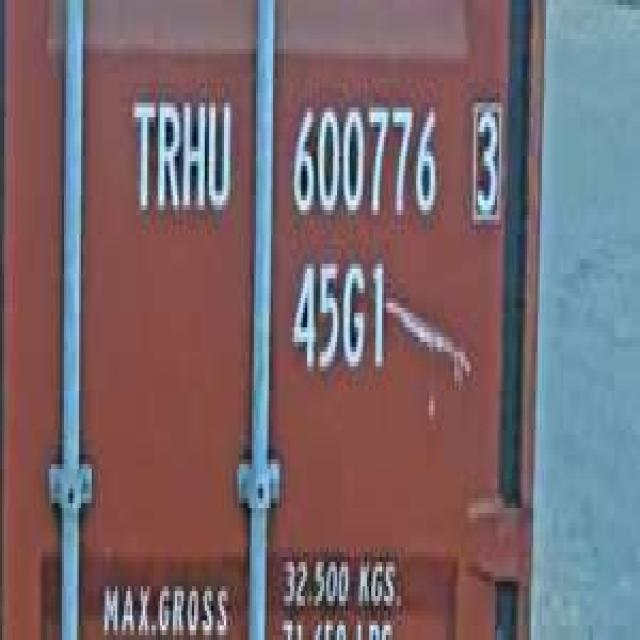dv: (465, 88, 506, 230)
owner: (126, 83, 237, 230)
serial: (286, 88, 441, 230)
size: (286, 244, 388, 386)
